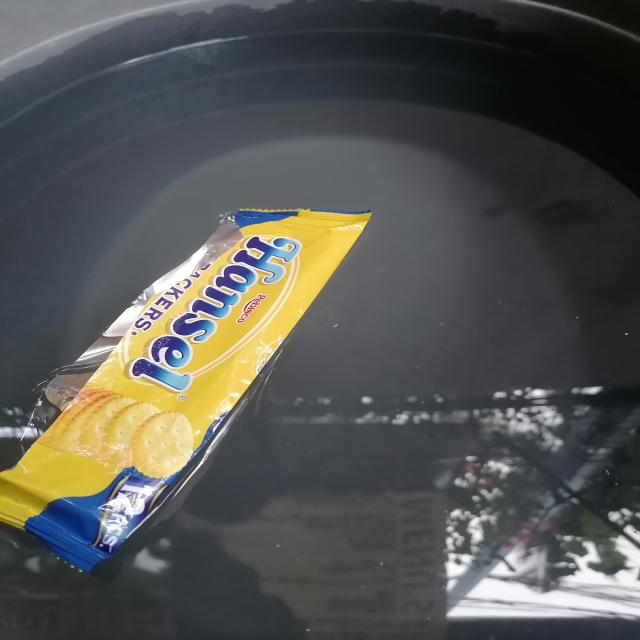Plastic Wrapper: (0, 209, 371, 572)
